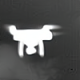plane: (2, 22, 64, 58)
